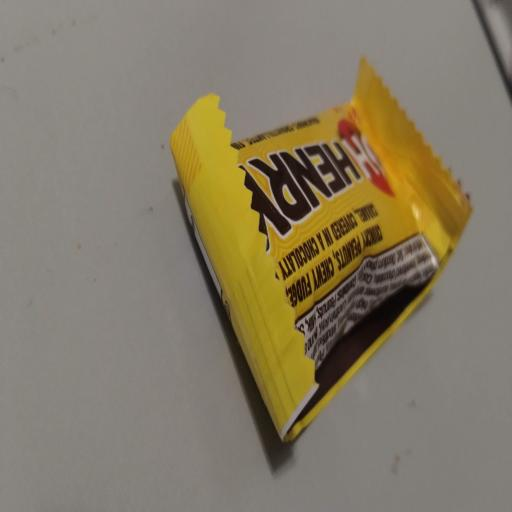chocolate: (171, 60, 470, 439)
